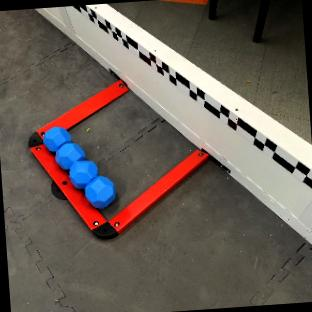Parking-R: (28, 80, 207, 237)
V5_BLUE: (85, 175, 115, 207), (69, 159, 97, 188), (54, 142, 84, 168), (43, 126, 69, 150)
redloader: (43, 127, 115, 207)
